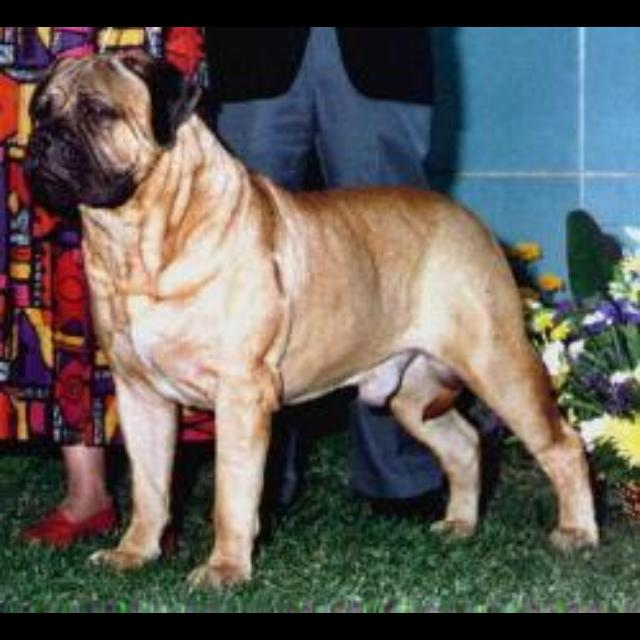bullmastiff: (22, 47, 600, 594)
